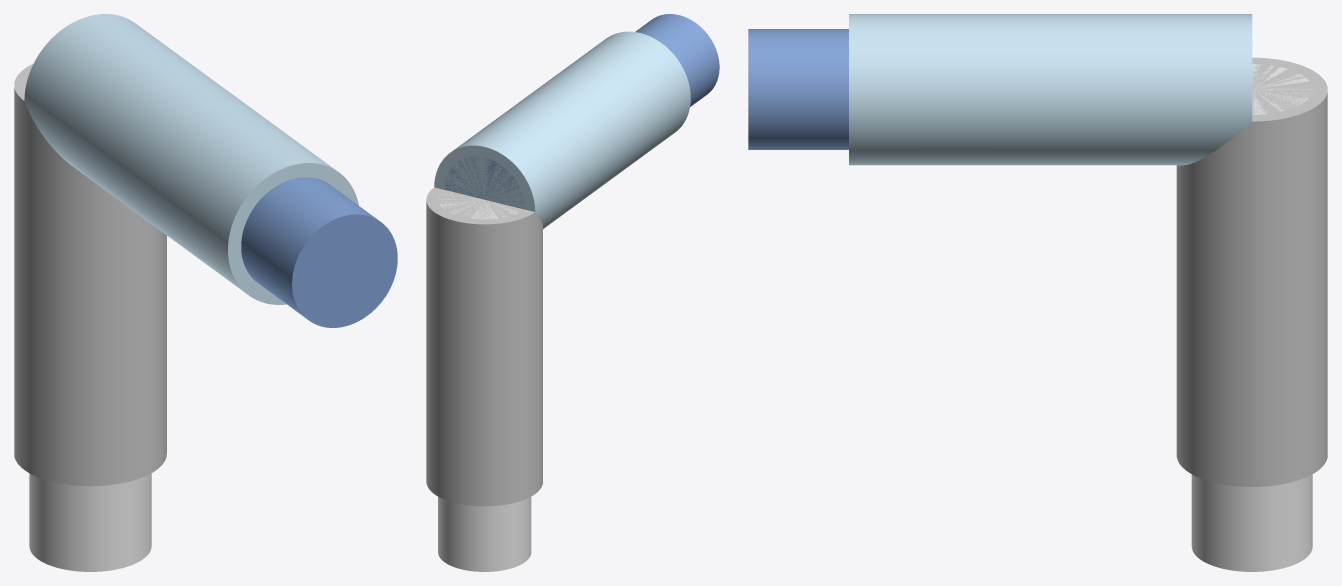
3 views of the same model, side by side, from view 1: azimuth 30°, elevation 25°; view 2: azimuth 150°, elevation 25°; view 3: azimuth 270°, elevation 25° (orthographic). The views are drawn at different scales.
Visible parts, largest first — view 1: Part 2, Part 1, Part 3, Part 4; view 2: Part 2, Part 1, Part 4, Part 3; view 3: Part 1, Part 2, Part 3, Part 4.
Boxes of the visible parts, x1,y1,x2,y2 form: Part 2: (14,63,166,486); Part 1: (24,14,358,304); Part 3: (241,177,397,327); Part 4: (29,473,151,571); Part 2: (426,187,542,506); Part 1: (434,31,690,228); Part 4: (438,190,531,571); Part 3: (444,14,719,208); Part 1: (849,14,1252,165); Part 2: (1176,57,1327,486); Part 3: (748,29,848,149); Part 4: (1191,64,1312,571).
Bounding box in the file's own units: 0.03 × 0.115 × 0.115.
